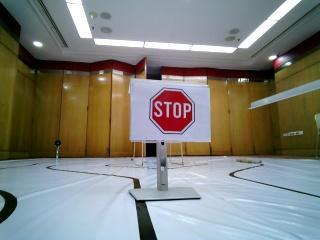stop: (134, 83, 202, 135)
